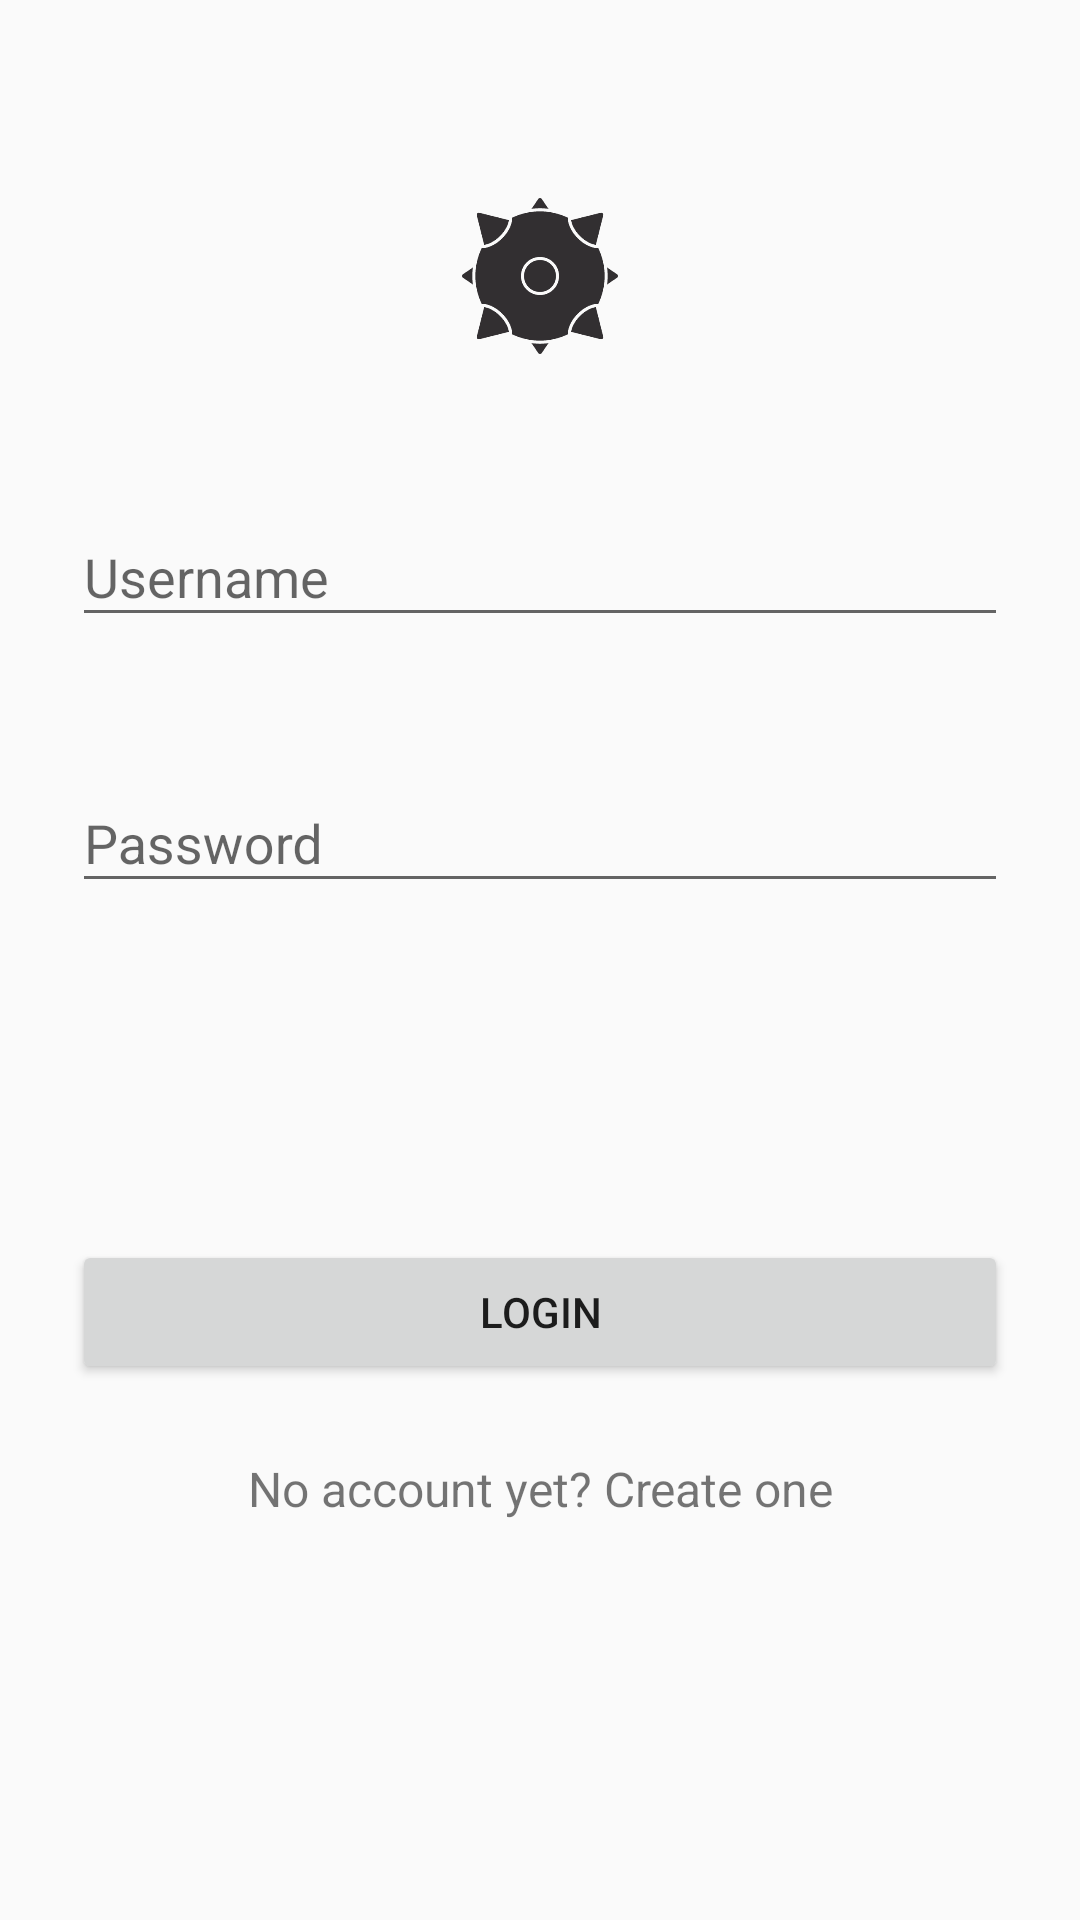

Screen size 1080×1920. Icon name, then its box in pixels as box(x1, y1, x2, y2):
mine: box(462, 198, 618, 354)
